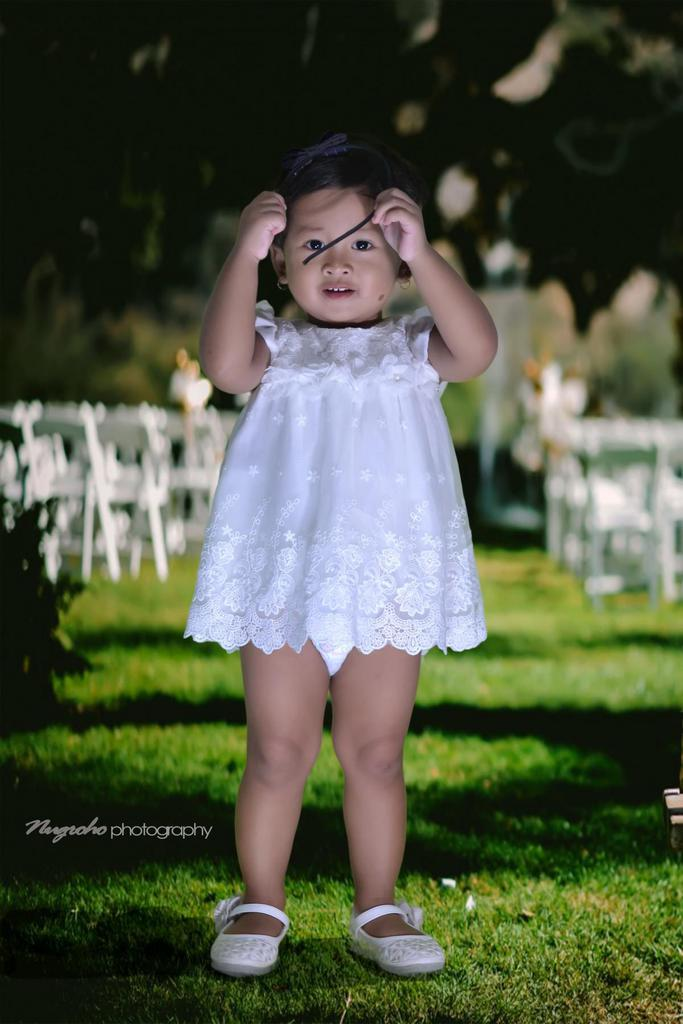child: (170, 139, 494, 996)
